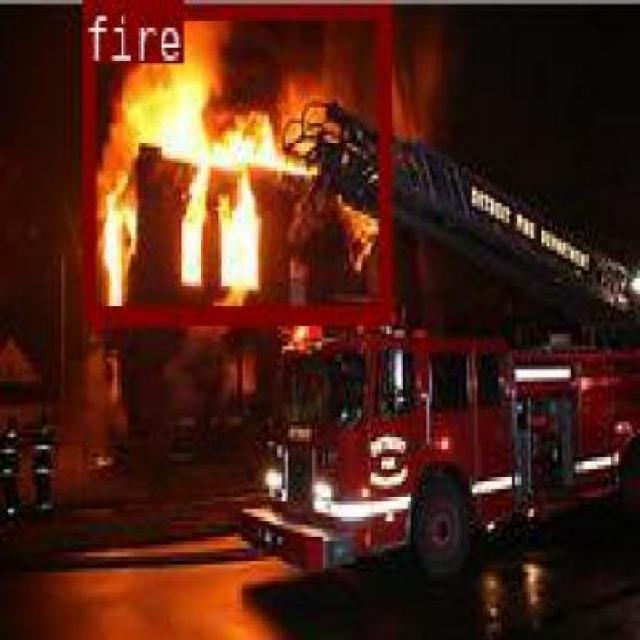Fire: (80, 0, 388, 318)
